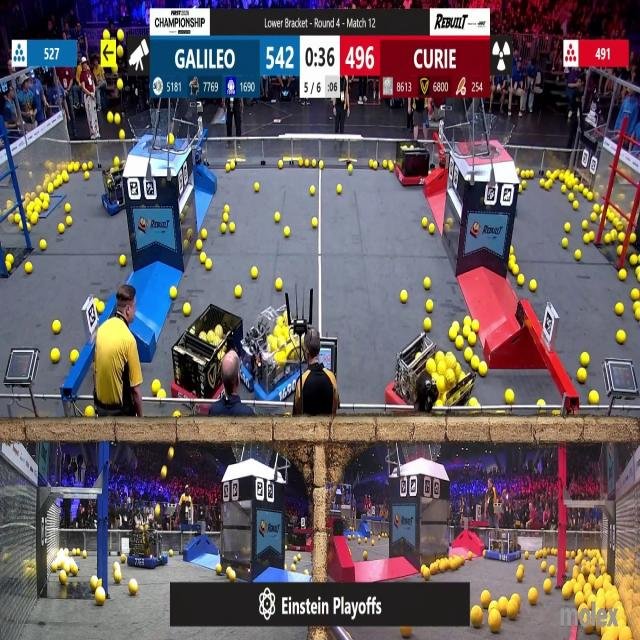ball_airborne: (162, 466, 169, 478), (116, 31, 123, 42), (114, 112, 120, 124), (116, 78, 122, 90), (116, 46, 123, 56), (108, 111, 114, 122), (118, 130, 124, 140), (169, 449, 175, 459), (155, 504, 160, 515), (112, 64, 117, 75), (104, 31, 110, 40), (169, 136, 174, 145)
ball_ground: (489, 611, 501, 634), (469, 606, 482, 627), (506, 600, 517, 619), (96, 589, 106, 605), (528, 589, 538, 605), (482, 591, 491, 608), (400, 626, 410, 639), (130, 582, 139, 596), (577, 367, 586, 381), (50, 349, 59, 363), (582, 352, 590, 367), (151, 381, 160, 394), (505, 389, 513, 403), (542, 581, 550, 595), (54, 320, 62, 334), (563, 586, 571, 600), (574, 594, 582, 608), (618, 332, 627, 344), (590, 391, 598, 404), (480, 362, 488, 375), (450, 326, 458, 339), (70, 350, 78, 363), (464, 348, 472, 361), (498, 598, 506, 611), (617, 304, 625, 316), (470, 320, 478, 332), (468, 335, 476, 347), (456, 338, 464, 350), (470, 357, 478, 369), (229, 569, 237, 581), (424, 318, 431, 331), (183, 304, 190, 317), (61, 570, 68, 583), (26, 264, 34, 275), (87, 408, 95, 419), (512, 266, 520, 277), (462, 325, 470, 336), (236, 286, 243, 298), (620, 270, 627, 282), (171, 286, 178, 298), (426, 301, 433, 313), (530, 280, 537, 292), (399, 290, 406, 302), (92, 576, 99, 588), (422, 566, 429, 578), (517, 568, 524, 580), (610, 232, 617, 244), (630, 255, 638, 265), (251, 268, 258, 279), (632, 289, 639, 300), (114, 570, 121, 581), (619, 233, 626, 244), (98, 303, 105, 314), (277, 279, 283, 291), (119, 254, 125, 266), (468, 398, 477, 406), (230, 222, 237, 232), (550, 566, 557, 576), (539, 562, 546, 572), (5, 264, 12, 274), (71, 565, 78, 575), (42, 201, 49, 211), (424, 278, 430, 289), (66, 215, 72, 226), (195, 240, 201, 251), (312, 217, 318, 228), (518, 276, 524, 287), (284, 228, 290, 239), (452, 321, 460, 329), (564, 222, 571, 231), (463, 317, 470, 326), (40, 241, 46, 251), (276, 212, 282, 222), (574, 250, 580, 260), (583, 220, 589, 230), (618, 246, 624, 256), (206, 262, 212, 272), (584, 234, 590, 244), (604, 235, 610, 245), (200, 252, 206, 262), (32, 214, 38, 224), (310, 185, 316, 195), (422, 217, 428, 227), (539, 178, 545, 188), (630, 234, 636, 244), (428, 223, 434, 233), (98, 576, 104, 586), (562, 239, 568, 248), (60, 223, 66, 232), (202, 231, 208, 240), (220, 223, 226, 232), (66, 204, 72, 213), (588, 191, 594, 200), (544, 180, 550, 189), (64, 174, 70, 183), (81, 164, 87, 173), (229, 161, 235, 170), (47, 184, 53, 193), (216, 564, 221, 574), (635, 310, 640, 320), (68, 162, 73, 172), (507, 247, 514, 254), (160, 390, 166, 398), (120, 556, 126, 564), (83, 172, 89, 180), (544, 172, 550, 180), (572, 202, 578, 210), (6, 255, 12, 263), (520, 170, 526, 178), (61, 592, 67, 600), (222, 213, 227, 222), (592, 213, 597, 222), (568, 191, 573, 200), (522, 180, 527, 189), (14, 215, 19, 224), (578, 183, 583, 192), (524, 553, 530, 560), (348, 166, 354, 173), (224, 165, 230, 172), (254, 183, 259, 191), (386, 161, 391, 169), (529, 171, 534, 179), (89, 163, 94, 171), (371, 160, 376, 168), (634, 302, 639, 310), (74, 165, 79, 173), (338, 184, 342, 193), (562, 184, 566, 193), (636, 268, 640, 277), (174, 413, 180, 419), (538, 399, 544, 405), (223, 206, 228, 213), (467, 553, 472, 560), (594, 205, 599, 212), (319, 163, 324, 170), (312, 162, 317, 169), (535, 552, 540, 559), (363, 553, 367, 561), (291, 564, 295, 572), (113, 562, 117, 570), (306, 160, 310, 168), (298, 161, 302, 169), (28, 222, 32, 230), (496, 412, 502, 417), (306, 569, 310, 576), (279, 160, 283, 167), (82, 552, 86, 559), (18, 222, 22, 229), (170, 551, 174, 557), (484, 552, 488, 558), (297, 555, 300, 562), (371, 539, 374, 545)
goal: (460, 118, 517, 158), (130, 115, 188, 152)
robot_blue: (240, 312, 308, 410), (127, 527, 167, 569), (102, 162, 127, 215), (484, 528, 520, 562)
robot_red: (383, 334, 475, 425), (170, 306, 242, 398), (393, 142, 428, 188), (283, 527, 306, 551), (445, 0, 486, 5)
